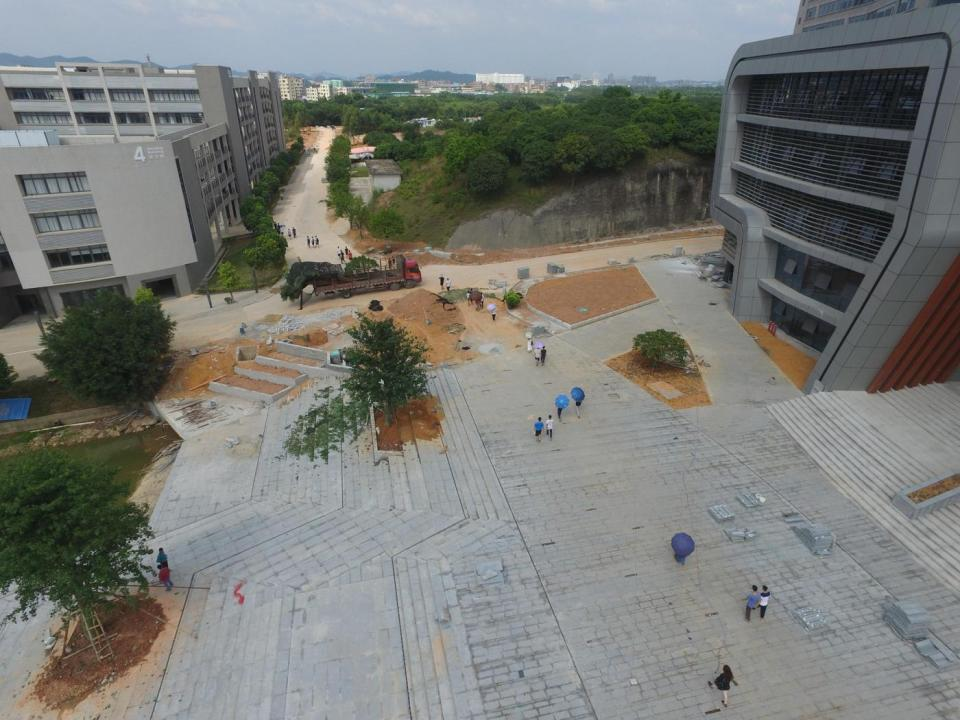truck: (303, 254, 422, 299)
